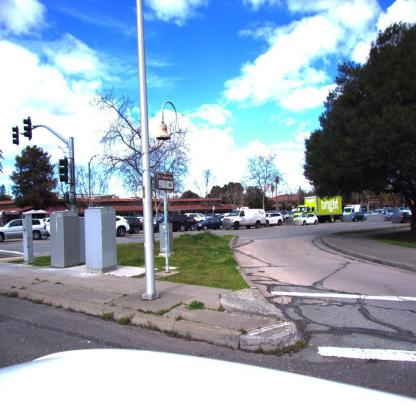car: (0, 217, 51, 244), (222, 208, 266, 230), (154, 213, 194, 232), (116, 216, 141, 236), (195, 214, 223, 230), (343, 205, 366, 222), (293, 212, 318, 226), (390, 209, 411, 224), (185, 213, 206, 228), (265, 213, 283, 227)
traffic light: (58, 158, 69, 184), (24, 117, 33, 141), (13, 126, 20, 145)
truck: (298, 194, 343, 224)
